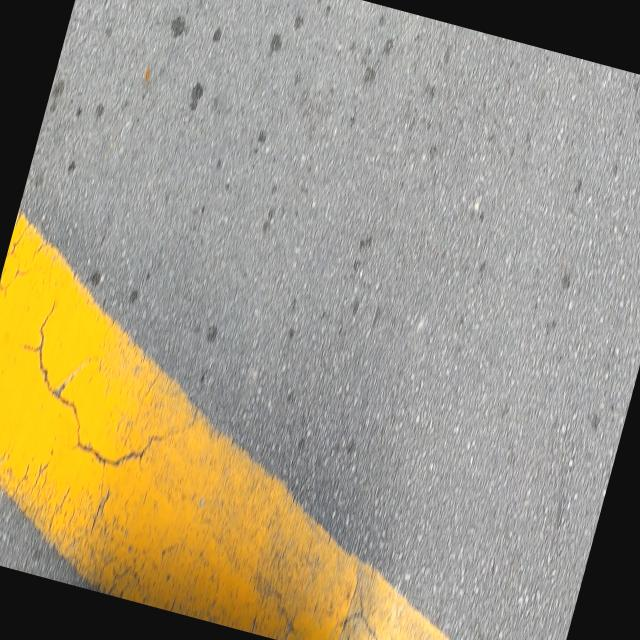Retak-Melintang: (36, 291, 157, 475)
